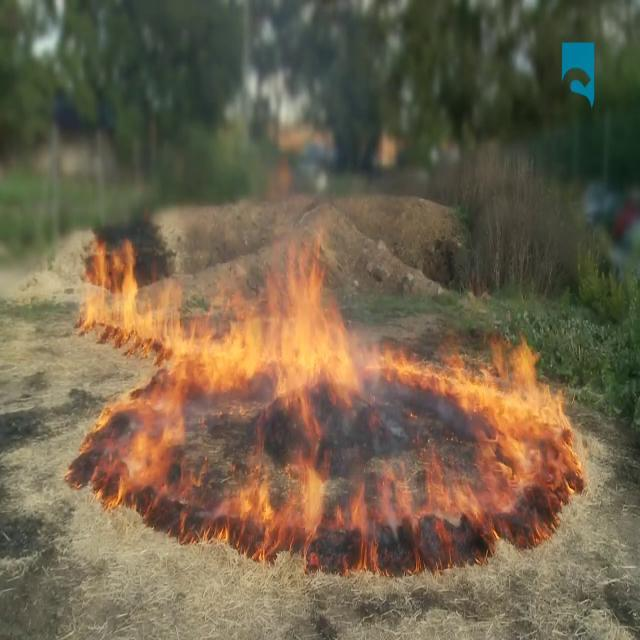Fire: (74, 391, 574, 584), (56, 176, 380, 406), (394, 316, 599, 538)
